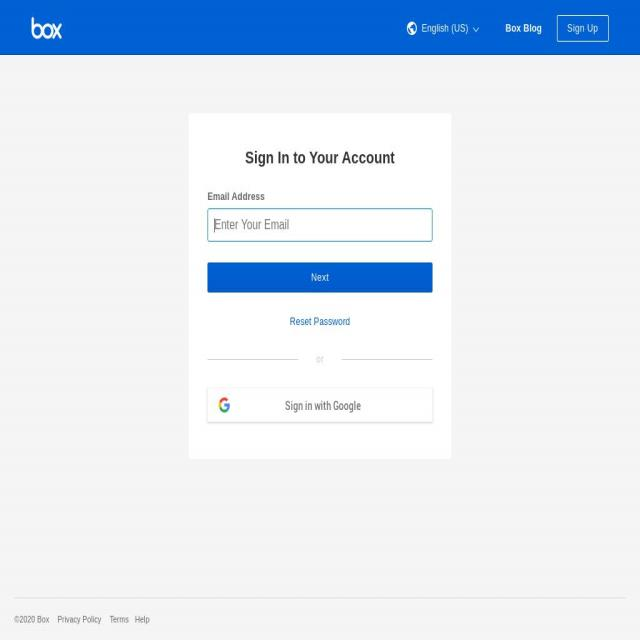language: (396, 18, 486, 42)
login-form: (196, 147, 449, 455)
navigation-links: (13, 598, 158, 635)
sign-up-option: (558, 15, 612, 45)
